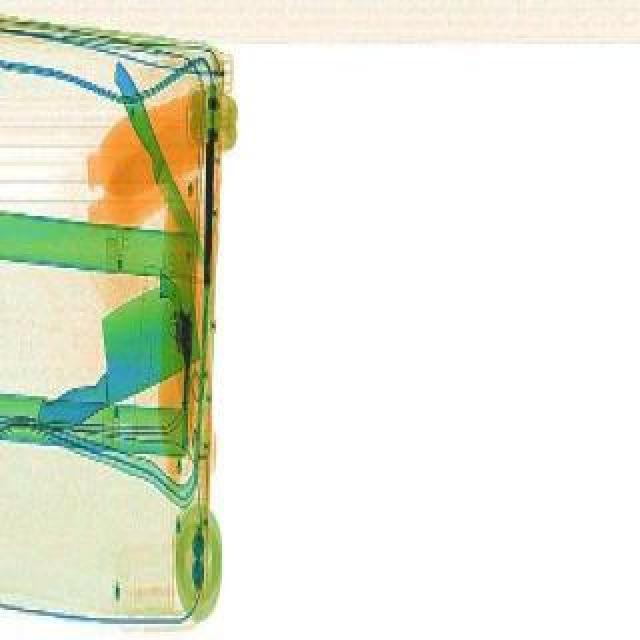knife: (2, 278, 234, 444), (106, 66, 214, 274)
